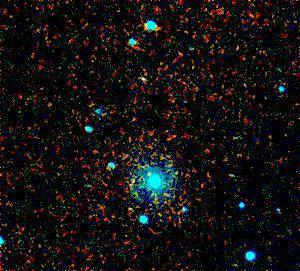star: (116, 169, 146, 199)
